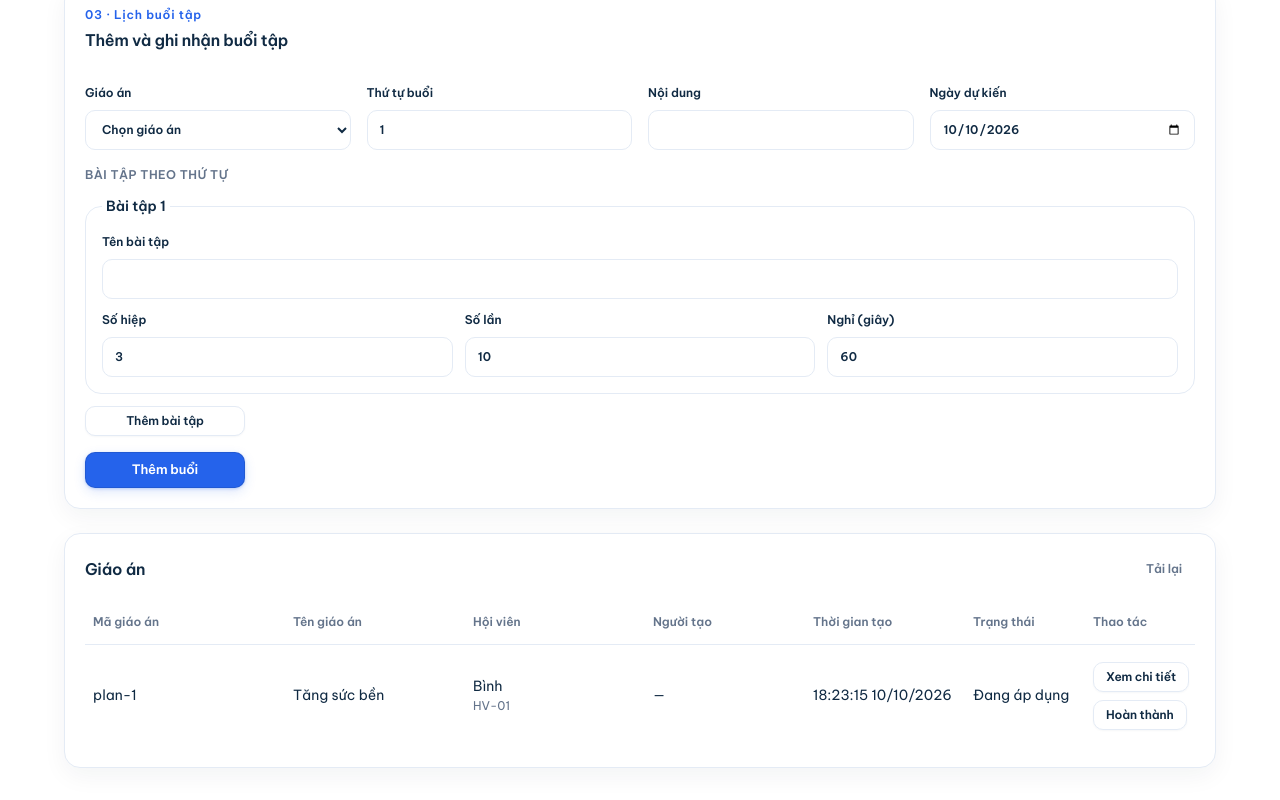
Scenario: TrainingPage › completes a plan and renders shared success feedback
(page scrolled)
Click the button "Hoàn thành" at (1140, 715), box [1093, 700, 1187, 730]
(page scrolled)
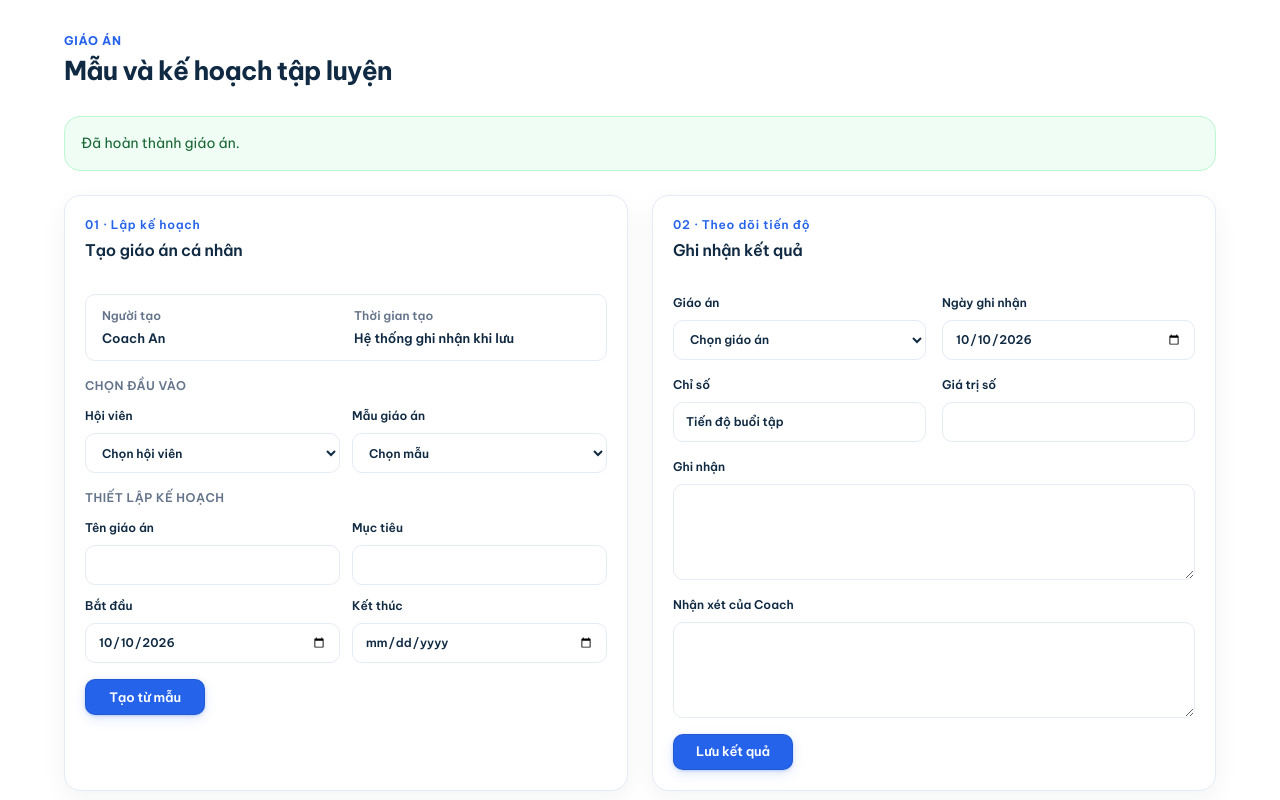
Expected: the message reads "Đã hoàn thành giáo án.", [81, 134, 240, 152]
